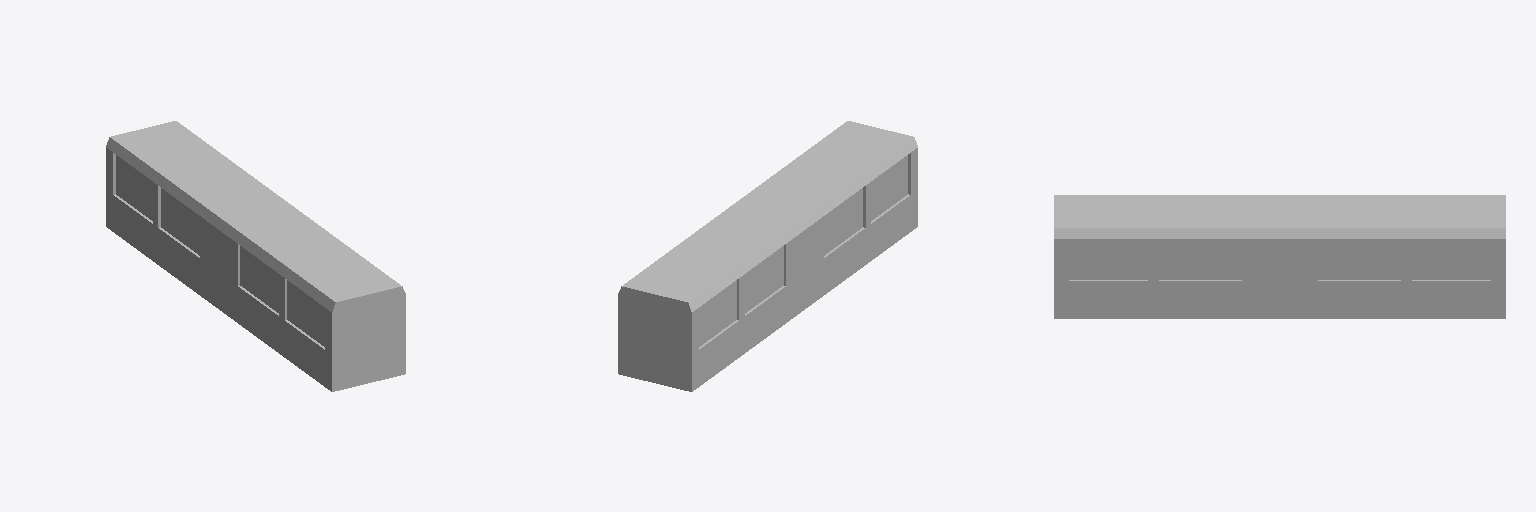
Rendered from TrainCarrage.obj.
3 views of the same model, side by side, from view 1: azimuth 30°, elevation 25°; view 2: azimuth 150°, elevation 25°; view 3: azimuth 270°, elevation 25° (orthographic).
Parts seen in each view (by area): view 1: TrainCarrage_Cube; view 2: TrainCarrage_Cube; view 3: TrainCarrage_Cube.
Boxes of the visible parts, x1,y1,x2,y2 form: TrainCarrage_Cube: [106, 121, 405, 391]; TrainCarrage_Cube: [618, 121, 917, 391]; TrainCarrage_Cube: [1054, 195, 1505, 318].
Size of the model in its own units: 4 by 4.57 by 21.11.